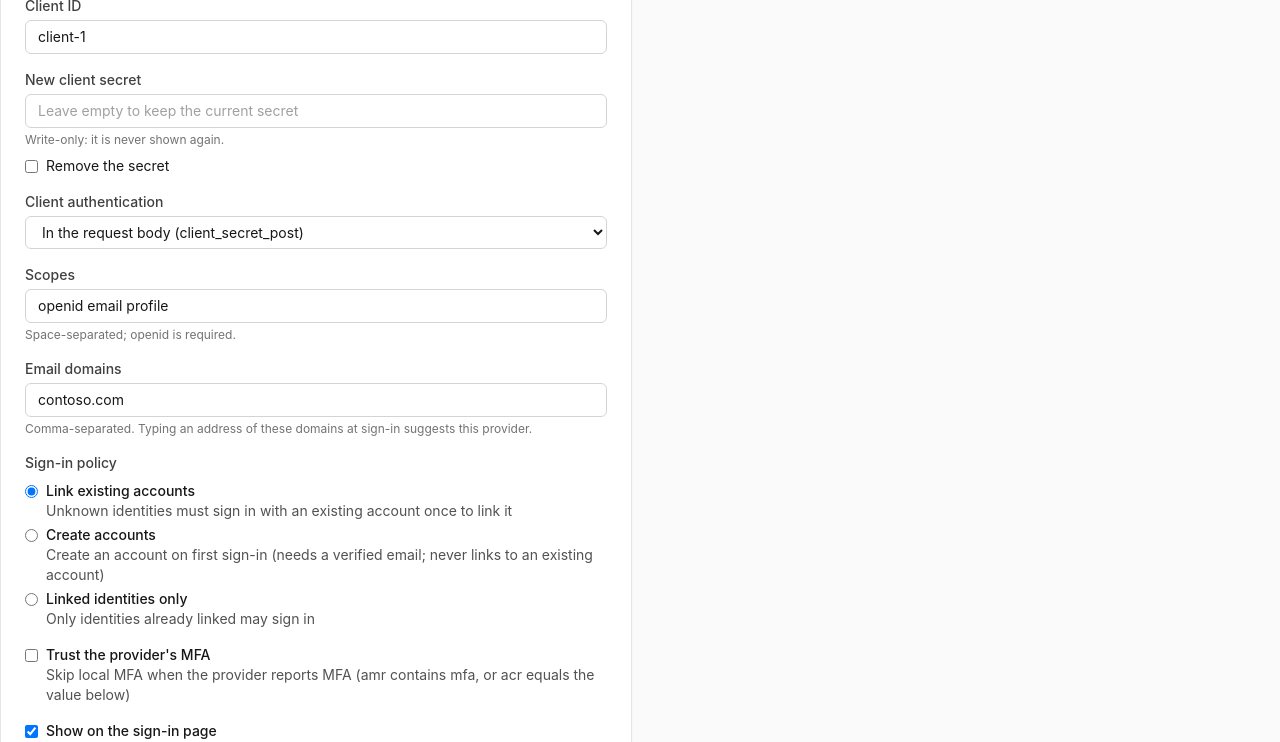
Test: IdentityProviderDetail › patches only changed fields plus a new secret, then clears the secret
(page scrolled)
Replace the text in the field with id "idp-domains" with "fabrikam.com": (316, 400) [25,383,607,417]
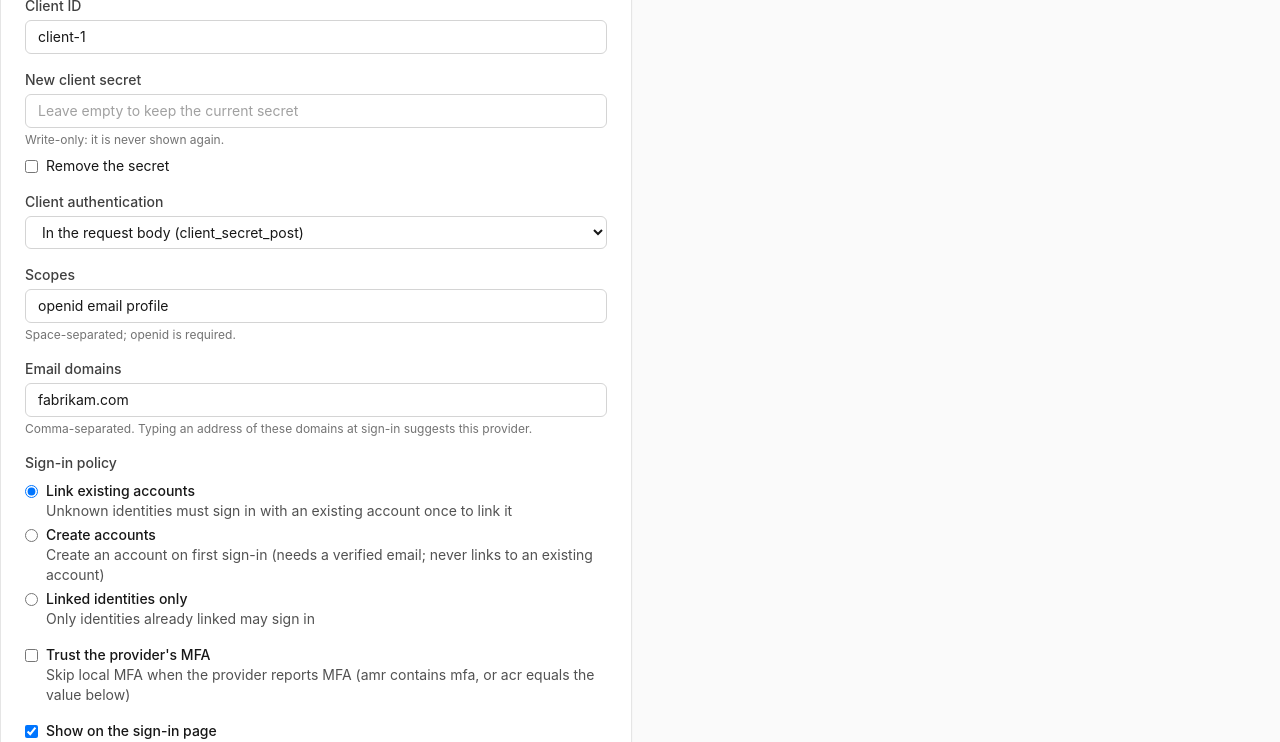
In the password field with id "idp-secret": (316, 111) [25,94,607,128], type "n3w"
(page scrolled)
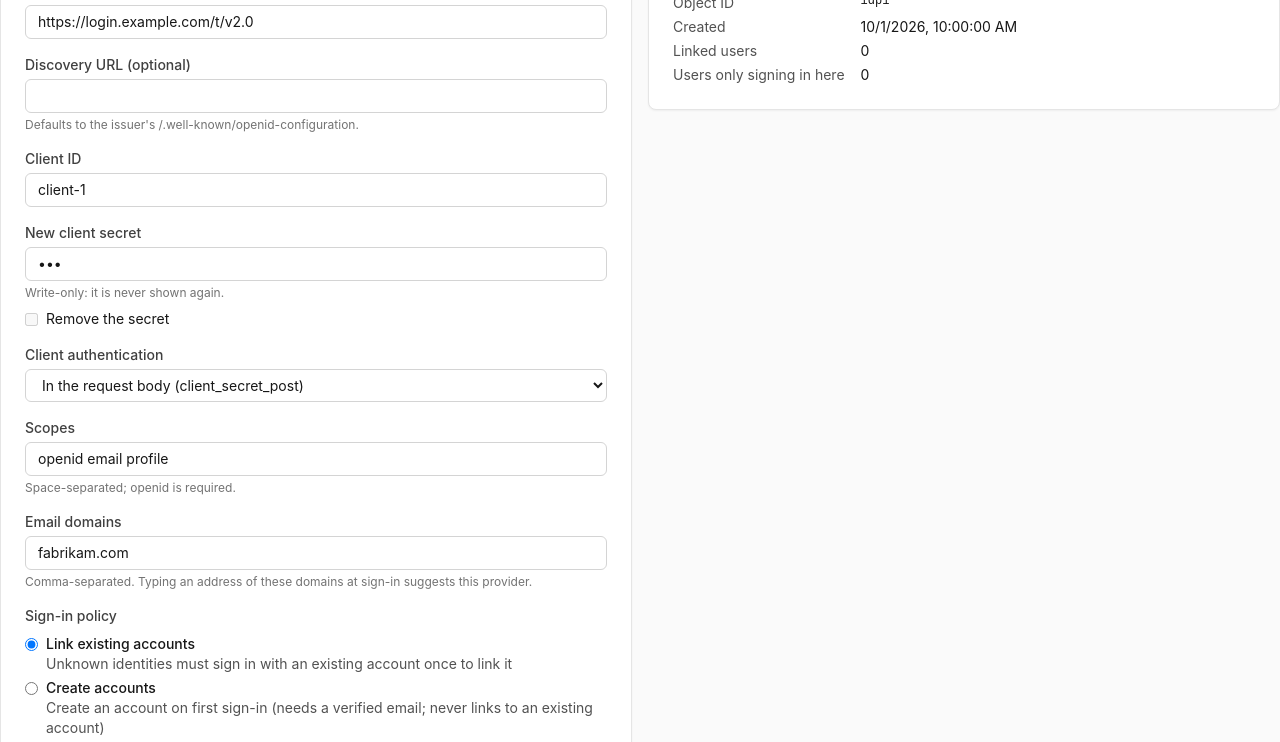
Submit the form with id "edit-idp"
(page scrolled)
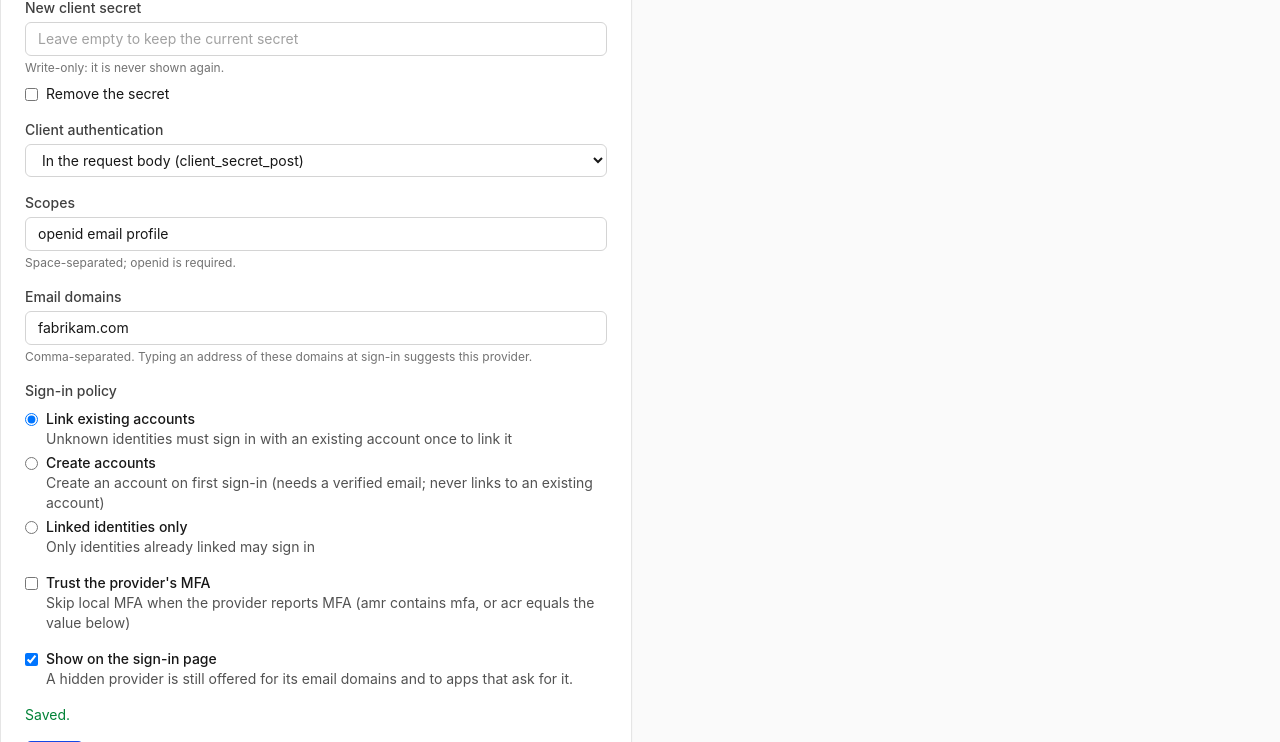
Expected: the password field with id "idp-secret" is empty, [25,22,607,56]
Expected: the message "Saved." is shown, [25,706,70,723]
